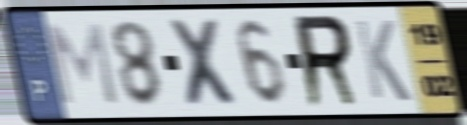6: (234, 16, 289, 108)
8: (109, 18, 166, 110)
K: (351, 17, 414, 105)
M: (43, 20, 122, 108)
R: (291, 11, 363, 111)
X: (164, 16, 246, 110)
